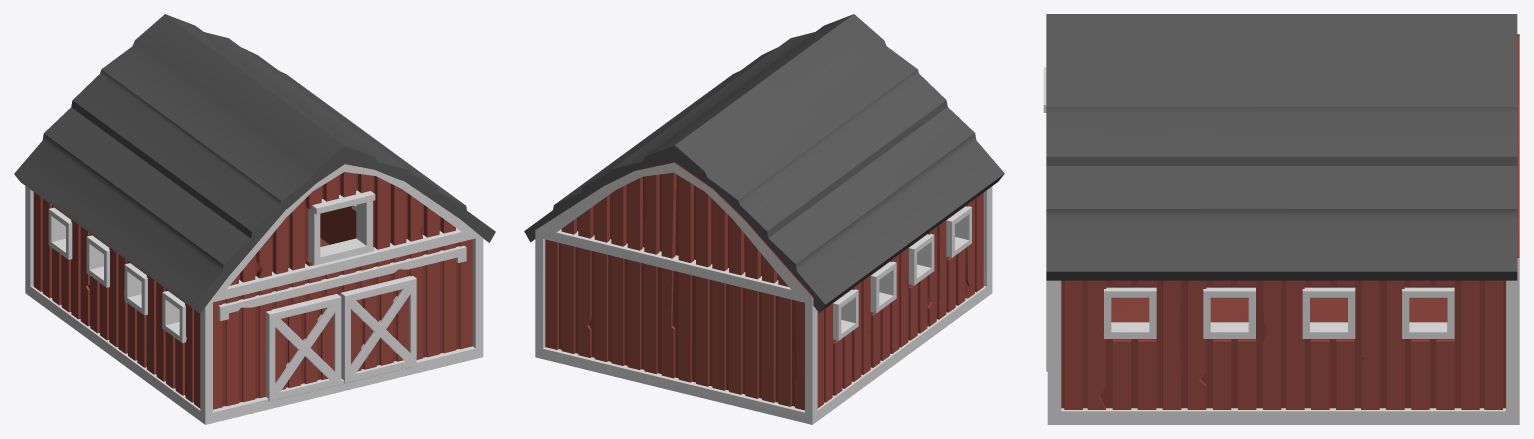
Rendered from Barn.glb.
The picture shows the model from 3 angles, left to right: view 1: azimuth 30°, elevation 25°; view 2: azimuth 150°, elevation 25°; view 3: azimuth 270°, elevation 25°; orthographic projection. The views are drawn at different scales.
Visible parts, largest first — view 1: Barn, Barn_Door, Barn_Door2; view 2: Barn; view 3: Barn.
Boxes of the visible parts, x1,y1,x2,y2 form: Barn: (14,14,495,424); Barn_Door: (340,276,416,383); Barn_Door2: (266,294,341,401); Barn: (524,14,1004,424); Barn: (1043,14,1519,424).
Size of the model in its own units: 7.73 by 6.01 by 8.22.
